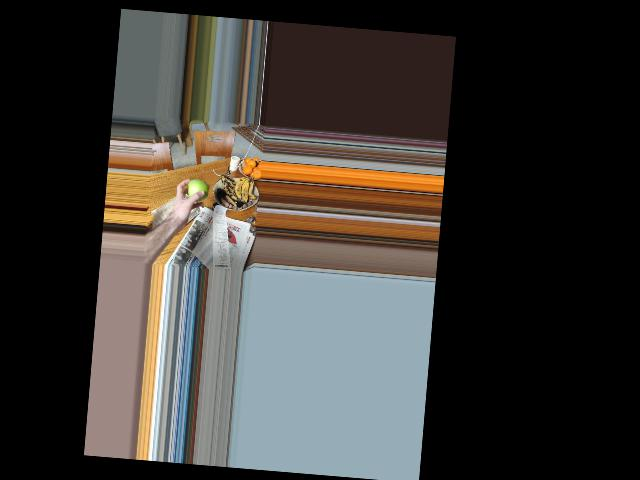apple: (187, 178, 210, 204)
